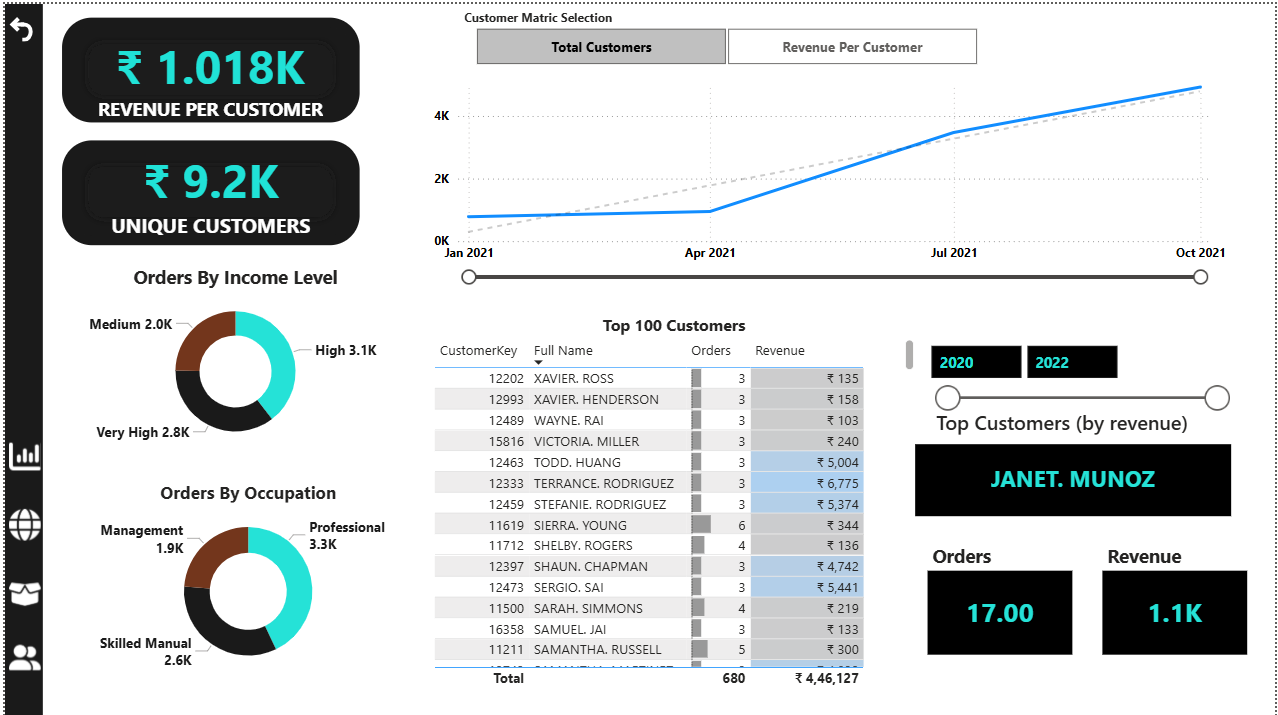

The page's visual inventory and layout, read from the dashboard file:
{"tool":"powerbi","page":{"name":"Customer Details","canvas":[1280,720],"ordinal":1},"visuals":[{"type":"shape","box":[57.4,14.3,300,105.4],"z":0},{"type":"actionButton","box":[0,433.3,40,45.2],"z":0,"group":"g2"},{"type":"shape","box":[0,0,38.1,719],"z":1000},{"type":"actionButton","box":[0,571.4,40,45.2],"z":1000,"group":"g2"},{"type":"shape","box":[57.4,137.5,300,105.4],"z":2000},{"type":"actionButton","box":[0,502.4,40,45.2],"z":2000,"group":"g2"},{"type":"group","id":"g1","title":"KPI VALUES","box":[67.3,119.6,280.4,142.9],"z":3000},{"type":"cardVisual","fields":{"Data":["Measure Table.Average Revenue Per Customer"]},"box":[40.4,0,334.6,148.1],"z":4000},{"type":"lineChart","title":"Total Customers","fields":{"Y":["Measure Table.Total Customers"],"Category":["Calendar Lookup.Start of Week.Variation.Date Hierarchy.Year","Calendar Lookup.Start of Week.Variation.Date Hierarchy.Quarter","Calendar Lookup.Start of Week.Variation.Date Hierarchy.Month","Calendar Lookup.Start of Week.Variation.Date Hierarchy.Day"]},"box":[427.5,67.5,808.8,218.8],"z":5000},{"type":"donutChart","title":"Orders By Income Level","fields":{"Category":["Customer Lookup.Income Level"],"Y":["Measure Table.Total Orders"]},"box":[57.1,262.5,350,191.1],"z":6000},{"type":"cardVisual","fields":{"Data":["Measure Table.Total Customers"]},"box":[67.3,119.6,280.9,142.6],"z":7000,"group":"g1"},{"type":"donutChart","title":"Orders By Occupation","fields":{"Y":["Measure Table.Total Orders"],"Category":["Customer Lookup.Occupation"]},"box":[83.9,480.4,323.2,201.8],"z":7000},{"type":"tableEx","title":"Top 100 Customers","fields":{"Values":["Customer Lookup.CustomerKey","Customer Lookup.Full Name","Measure Table.Total Orders","Measure Table.Total Revenue sumx"]},"box":[427.5,312.5,493.8,381.2],"z":8000},{"type":"card","fields":{"Values":["Measure Table.Full Name (customer details)"]},"box":[917.5,443.8,318.8,72.5],"z":9000},{"type":"textbox","title":"Top Customers (by  revenue)","box":[933.8,407.5,302.5,35],"z":10000},{"type":"card","fields":{"Values":["Measure Table.Total Order ( customer detail)"]},"box":[930,571.2,146.2,85],"z":11000},{"type":"textbox","title":"Orders","box":[930,543.8,163.8,27.5],"z":12000},{"type":"card","fields":{"Values":["Measure Table.Tptal Revenue (customer details)"]},"box":[1106.2,571.2,146.2,85],"z":13000},{"type":"textbox","title":"Revenue","box":[1106.2,543.8,162.5,27.5],"z":14000},{"type":"slicer","fields":{"Values":["Calendar Lookup.Date.Variation.Date Hierarchy.Year"]},"box":[921.2,335,321.2,90],"z":15000},{"type":"actionButton","box":[0,8.3,40,33.3],"z":16000},{"type":"actionButton","box":[0,638.3,55,40],"z":17000},{"type":"group","id":"g2","title":"Group 1","box":[0,433.3,40,183.3],"z":18000},{"type":"slicer","fields":{"Values":["Customer Matric Selection.Customer Matric Selection"]},"box":[450,0,553.8,67.5],"z":19000}]}

Visuals, with their boxes on the page's 1280x720 design canvas (x1, y1, x2, y2). These are canvas units, not pixel positions in the 1278x715 screenshot, which may show the page scaled, cropped or inside an application window:
shape: (left=57, top=14, right=357, bottom=120)
actionButton: (left=0, top=433, right=40, bottom=478)
shape: (left=0, top=0, right=38, bottom=719)
actionButton: (left=0, top=571, right=40, bottom=617)
shape: (left=57, top=138, right=357, bottom=243)
actionButton: (left=0, top=502, right=40, bottom=548)
"KPI VALUES" group: (left=67, top=120, right=348, bottom=262)
cardVisual - Measure Table.Average Revenue Per Customer: (left=40, top=0, right=375, bottom=148)
"Total Customers" lineChart: (left=428, top=68, right=1236, bottom=286)
"Orders By Income Level" donutChart: (left=57, top=262, right=407, bottom=454)
cardVisual - Measure Table.Total Customers: (left=67, top=120, right=348, bottom=262)
"Orders By Occupation" donutChart: (left=84, top=480, right=407, bottom=682)
"Top 100 Customers" tableEx: (left=428, top=312, right=921, bottom=694)
card - Measure Table.Full Name (customer details): (left=918, top=444, right=1236, bottom=516)
"Top Customers (by  revenue)" textbox: (left=934, top=408, right=1236, bottom=442)
card - Measure Table.Total Order ( customer detail): (left=930, top=571, right=1076, bottom=656)
"Orders" textbox: (left=930, top=544, right=1094, bottom=571)
card - Measure Table.Tptal Revenue (customer details): (left=1106, top=571, right=1252, bottom=656)
"Revenue" textbox: (left=1106, top=544, right=1269, bottom=571)
slicer - Calendar Lookup.Date.Variation.Date Hierarchy.Year: (left=921, top=335, right=1242, bottom=425)
actionButton: (left=0, top=8, right=40, bottom=42)
actionButton: (left=0, top=638, right=55, bottom=678)
"Group 1" group: (left=0, top=433, right=40, bottom=617)
slicer - Customer Matric Selection.Customer Matric Selection: (left=450, top=0, right=1004, bottom=68)
